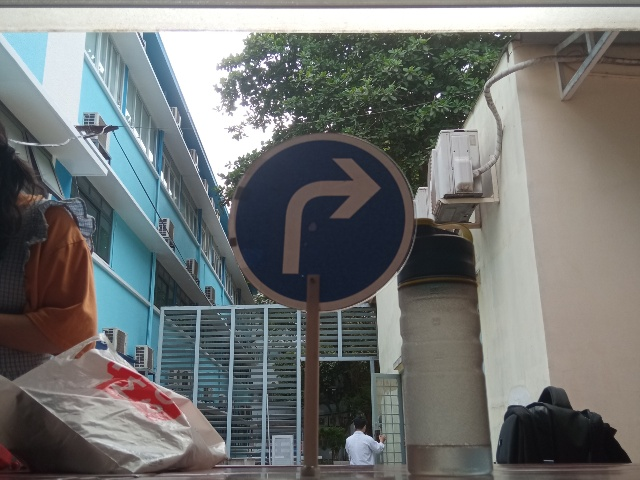Right_Sign: (231, 132, 416, 311)
